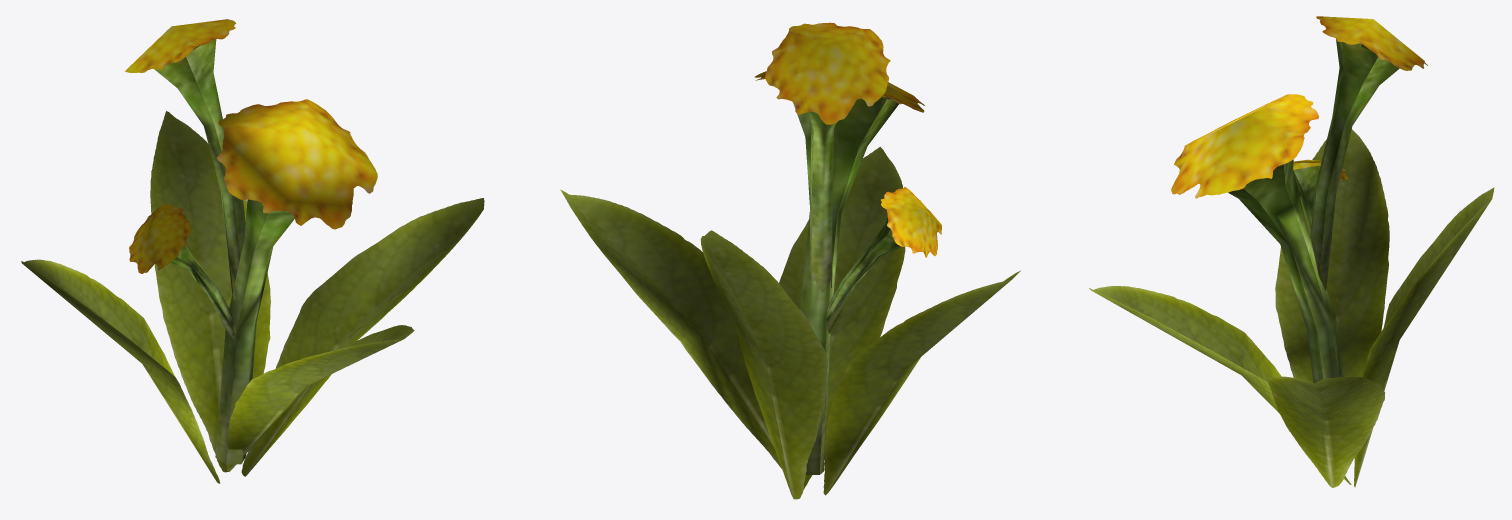
The model's file is yellowf1.obj.
The picture shows the model from 3 angles, left to right: view 1: azimuth 30°, elevation 25°; view 2: azimuth 150°, elevation 25°; view 3: azimuth 270°, elevation 25°; orthographic projection. The views are drawn at different scales.
Visible parts, largest first — view 1: yellowflower01; view 2: yellowflower01; view 3: yellowflower01.
Part boxes in pixels (<box>): yellowflower01: <box>21,19,484,483</box>; yellowflower01: <box>560,22,1020,499</box>; yellowflower01: <box>1089,16,1494,487</box>.
Bounding box in the file's own units: 24.35 × 23.21 × 19.32.
2 materials, 2 textured.
